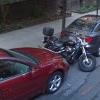Motorcycle: (36, 20, 97, 74)
